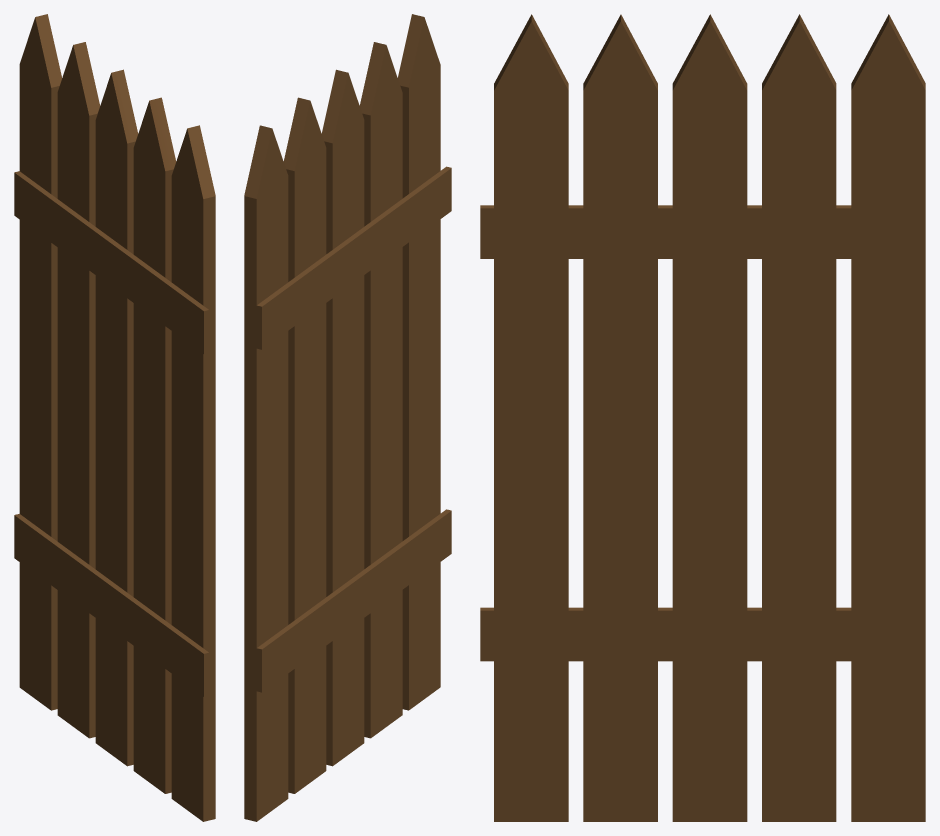
The model's file is PLOT.fbx.
3 renders of one model, left to right at view 1: azimuth 30°, elevation 25°; view 2: azimuth 150°, elevation 25°; view 3: azimuth 270°, elevation 25°, orthographic. The views are drawn at different scales.
Visible parts, largest first — view 1: Cube; view 2: Cube; view 3: Cube.
Part boxes in pixels (bbox=[...]): Cube: bbox=[14, 14, 215, 821]; Cube: bbox=[244, 14, 451, 821]; Cube: bbox=[480, 14, 925, 821].
Size of the model in its own units: 171 by 9.31 by 339.
